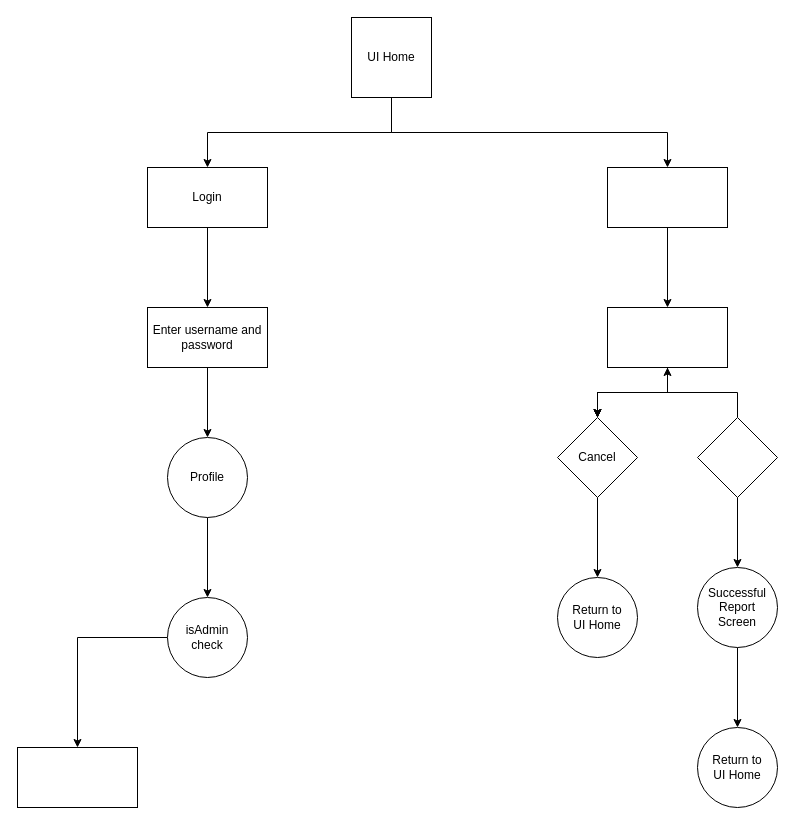
Some shapes in this 795 by 825 pixel diagram are drawn without their labels. The shapes that lost their labels are listed below. From the top down, each one's centre as x and y in pixels, then its label:
the point at 667,197: Report Incident (Anon)
the point at 667,337: Report Form
the point at 737,457: Submit
the point at 77,777: View Incidentss
